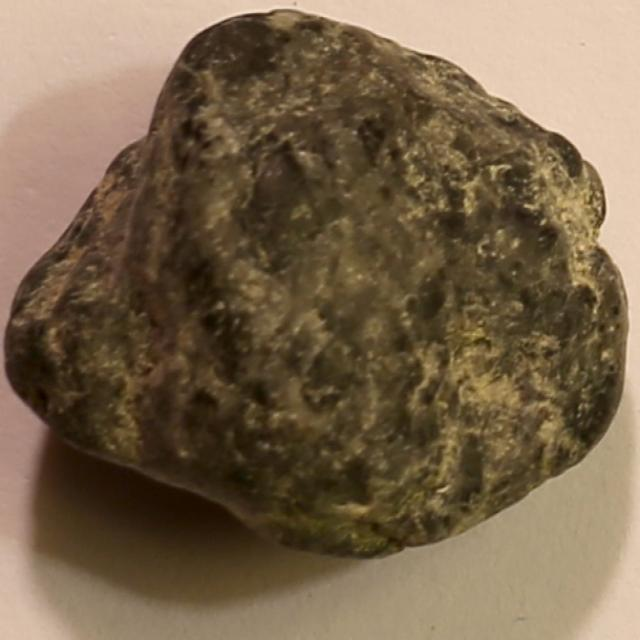stone: (2, 0, 640, 559)
